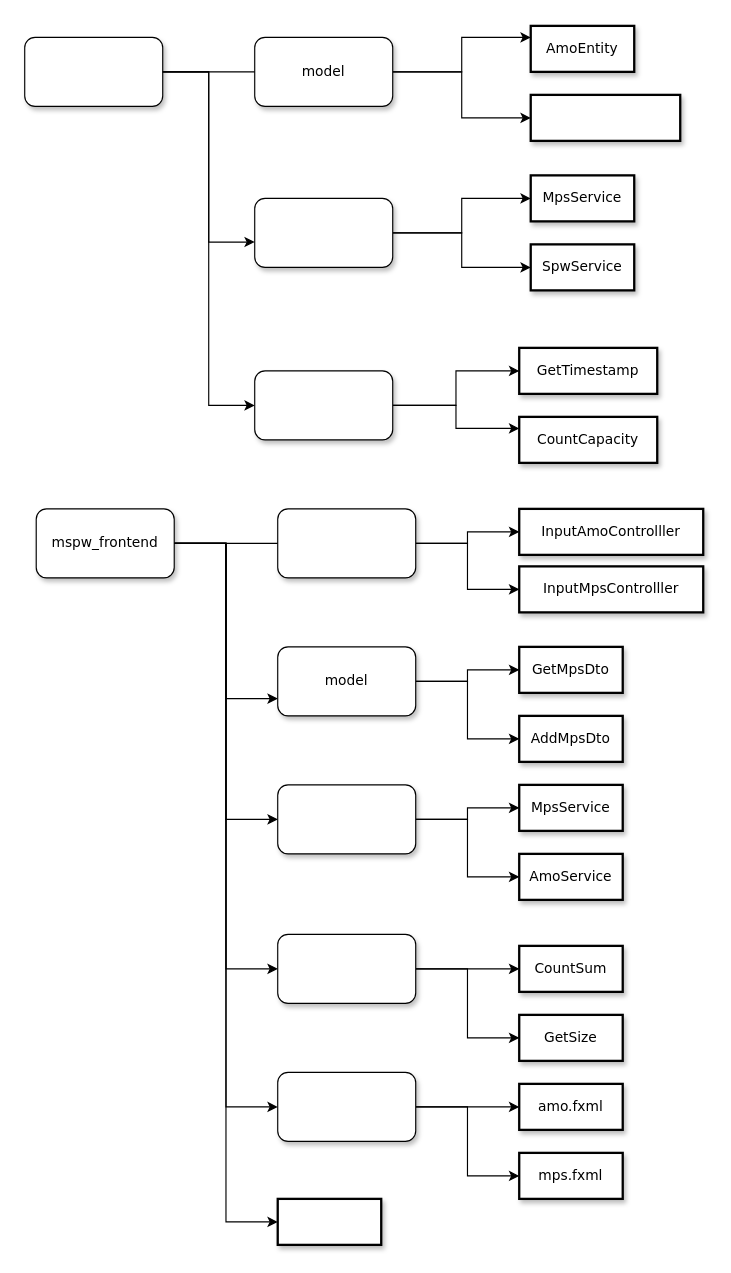
Some shapes in this 731 by 1273 pixel diagram are drawn without their labels. Each missing label, with the centre of its shape:
"contreoller" belongs at (347,544).
"EfektorInzEntity" belongs at (606,119).
"Main" belongs at (330,1223).
"mspw_backend" belongs at (94,73).
"service" belongs at (347,820).
"services" belongs at (324,234).
"utill" belongs at (347,970).
"utils" belongs at (324,406).
"view" belongs at (347,1108).
